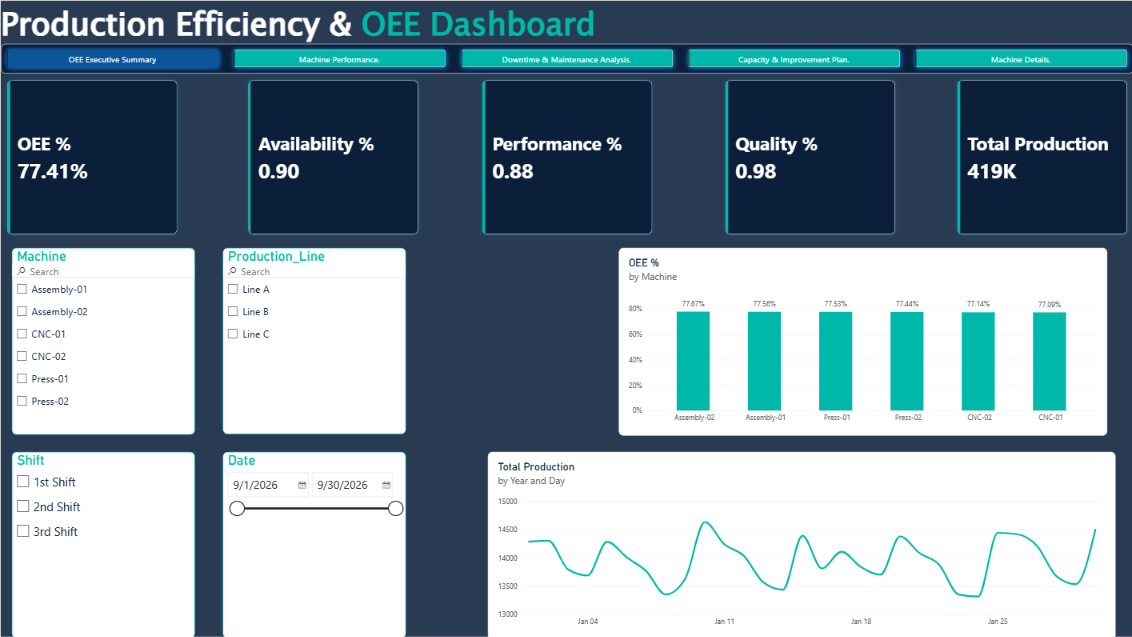

The page's visual inventory and layout, read from the dashboard file:
{"tool":"powerbi","page":{"name":"OEE Executive Summary","canvas":[1920,1080],"ordinal":0},"visuals":[{"type":"textbox","box":[0,0,1025.4,103.4],"z":0},{"type":"cardVisual","fields":{"Data":["OEE_data.OEE %"]},"box":[0,123.7,310.3,283.3],"z":1000},{"type":"cardVisual","fields":{"Data":["OEE_data.Availability %"]},"box":[409.3,123.7,310,283],"z":2000},{"type":"cardVisual","fields":{"Data":["OEE_data.Performance %"]},"box":[805.1,123.7,310,283],"z":3000},{"type":"cardVisual","fields":{"Data":["OEE_data.Quality %"]},"box":[1216.6,123.7,310,283],"z":4000},{"type":"cardVisual","fields":{"Data":["OEE_data.Total Production"]},"box":[1610.1,123.7,310,283],"z":5000},{"type":"clusteredColumnChart","fields":{"Category":["OEE_data.Machine"],"Y":["OEE_data.OEE %"]},"box":[1048,418,828,318],"z":6000},{"type":"lineChart","fields":{"Category":["OEE_data.Date.Variation.Date Hierarchy.Year","OEE_data.Date.Variation.Date Hierarchy.Day"],"Y":["OEE_data.Total Production"]},"box":[826,764,1064,318],"z":7000},{"type":"slicer","fields":{"Values":["OEE_data.Machine"]},"box":[18,418,310,317],"z":8000},{"type":"slicer","fields":{"Values":["OEE_data.Production_Line"]},"box":[376,418,310,316],"z":9000},{"type":"slicer","fields":{"Values":["OEE_data.Shift"]},"box":[18,764,310,316],"z":10000},{"type":"slicer","fields":{"Values":["OEE_data.Date"]},"box":[376,764,310,316],"z":11000},{"type":"pageNavigator","box":[0,73.3,1920.4,50.1],"z":12000}]}

Visuals, with their boxes in screenshot pixels (x1, y1, x2, y2), scaled from the page's 1920x1080 canvas onto the 1132x637 screenshot:
textbox: box(0, 0, 605, 61)
cardVisual - OEE_data.OEE %: box(0, 73, 183, 240)
cardVisual - OEE_data.Availability %: box(241, 73, 424, 240)
cardVisual - OEE_data.Performance %: box(475, 73, 657, 240)
cardVisual - OEE_data.Quality %: box(717, 73, 900, 240)
cardVisual - OEE_data.Total Production: box(949, 73, 1131, 240)
clusteredColumnChart - OEE_data.Machine x OEE_data.OEE %: box(618, 247, 1106, 434)
lineChart - OEE_data.Date.Variation.Date Hierarchy.Year x OEE_data.Date.Variation.Date Hierarchy.Day: box(487, 451, 1114, 636)
slicer - OEE_data.Machine: box(11, 247, 193, 434)
slicer - OEE_data.Production_Line: box(222, 247, 404, 433)
slicer - OEE_data.Shift: box(11, 451, 193, 636)
slicer - OEE_data.Date: box(222, 451, 404, 636)
pageNavigator: box(0, 43, 1131, 73)
